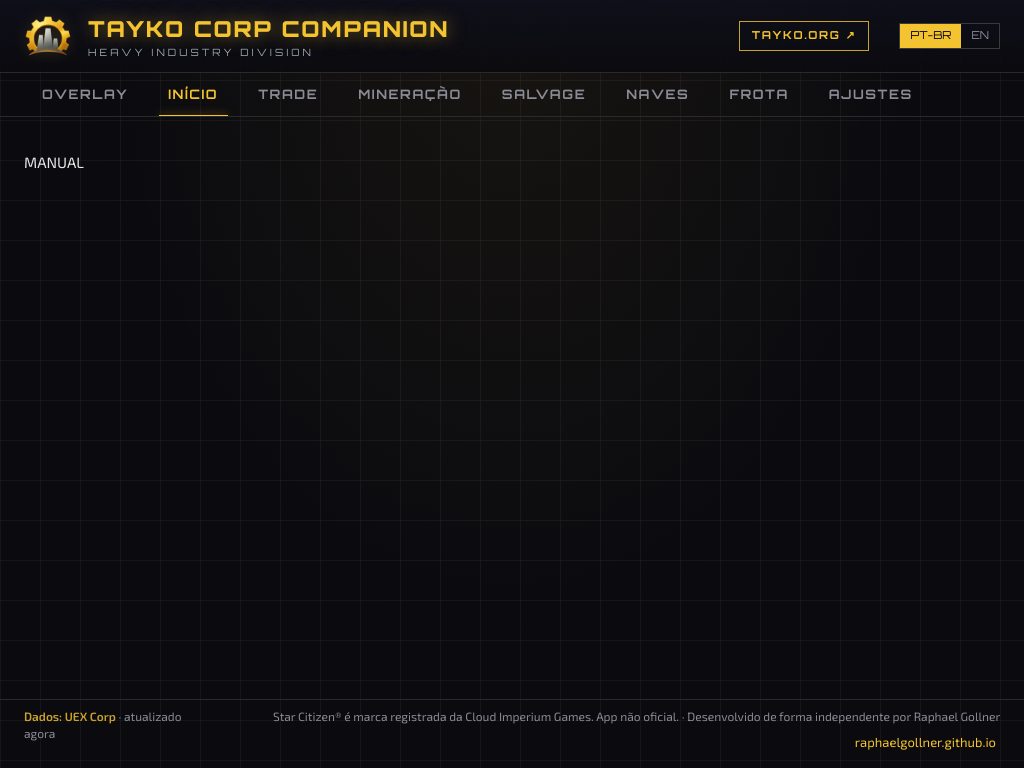
Test case: aba OVERLAY › fica à esquerda do INÍCIO, com subabas REGISTRO e IMPORTAÇÃO; INÍCIO não tem subabas
Expected: the text "MANUAL" is shown, [24,153,84,171]
Expected: the number of navigation bars is 1, [0,73,1023,117]
Click the tab "OVERLAY" at (85, 94), box [24,73,146,116]
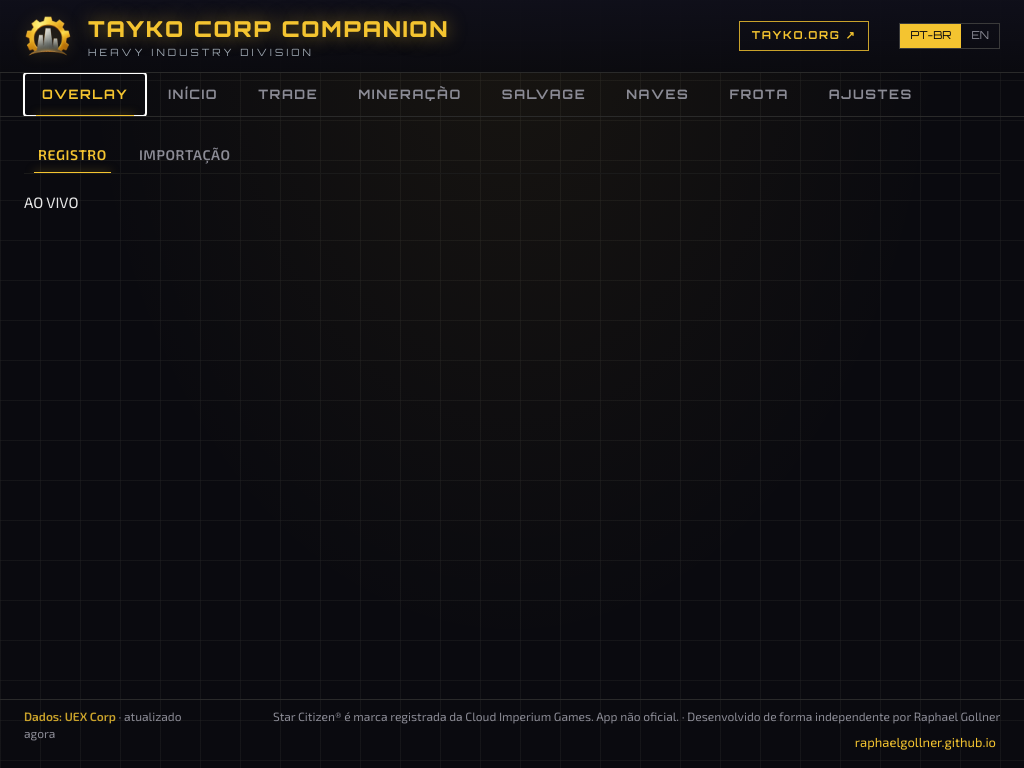
Expected: the text "AO VIVO" is shown, [24,193,78,211]
Expected: the tabs read "REGISTRO", "IMPORTAÇÃO", in this order
Click the tab "IMPORTAÇÃO" at (185, 155), box [125,137,245,173]
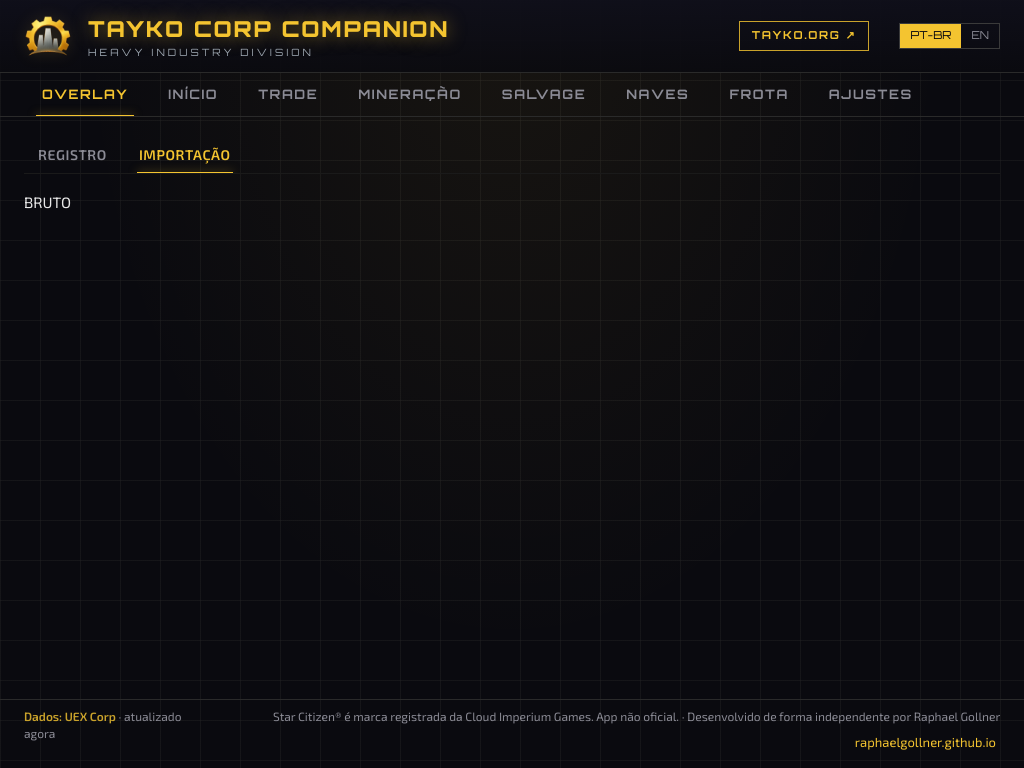
Expected: the text "BRUTO" is shown, [24,193,71,211]
